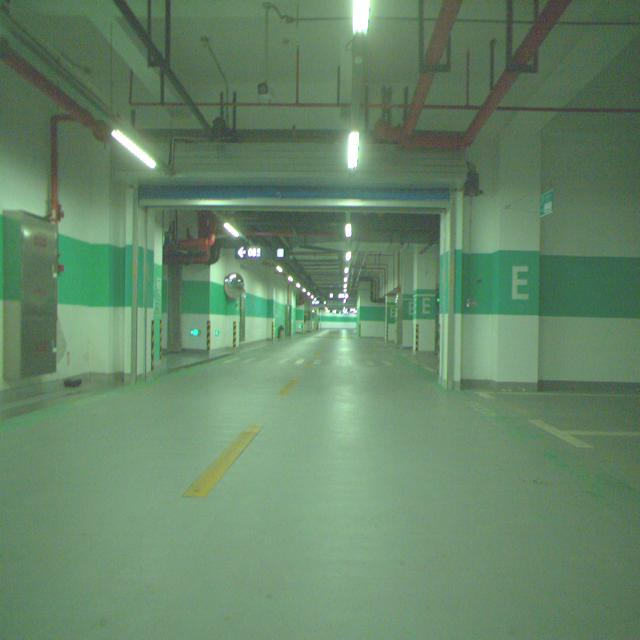pillar: (412, 245, 439, 352)
